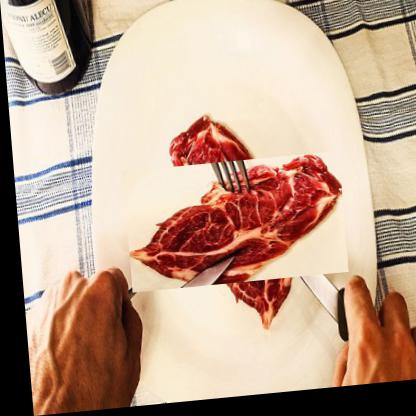raw_meat: (141, 135, 322, 318)
